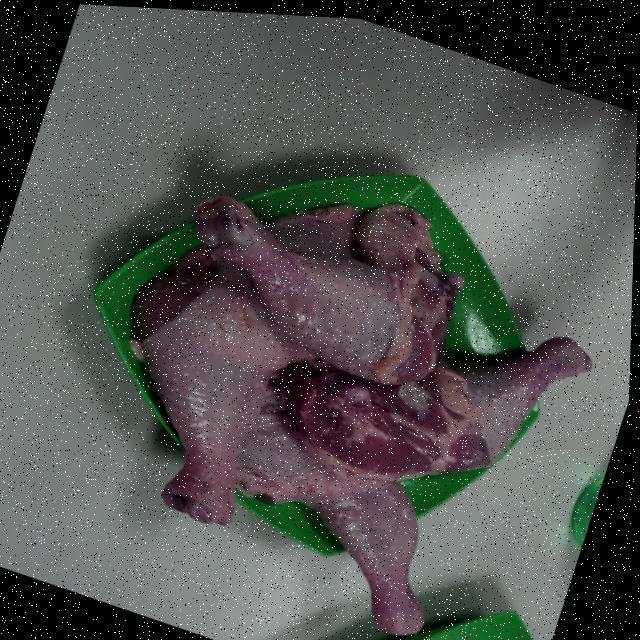quater: (175, 192, 456, 380), (284, 358, 603, 468), (153, 280, 298, 516), (242, 463, 438, 628)
